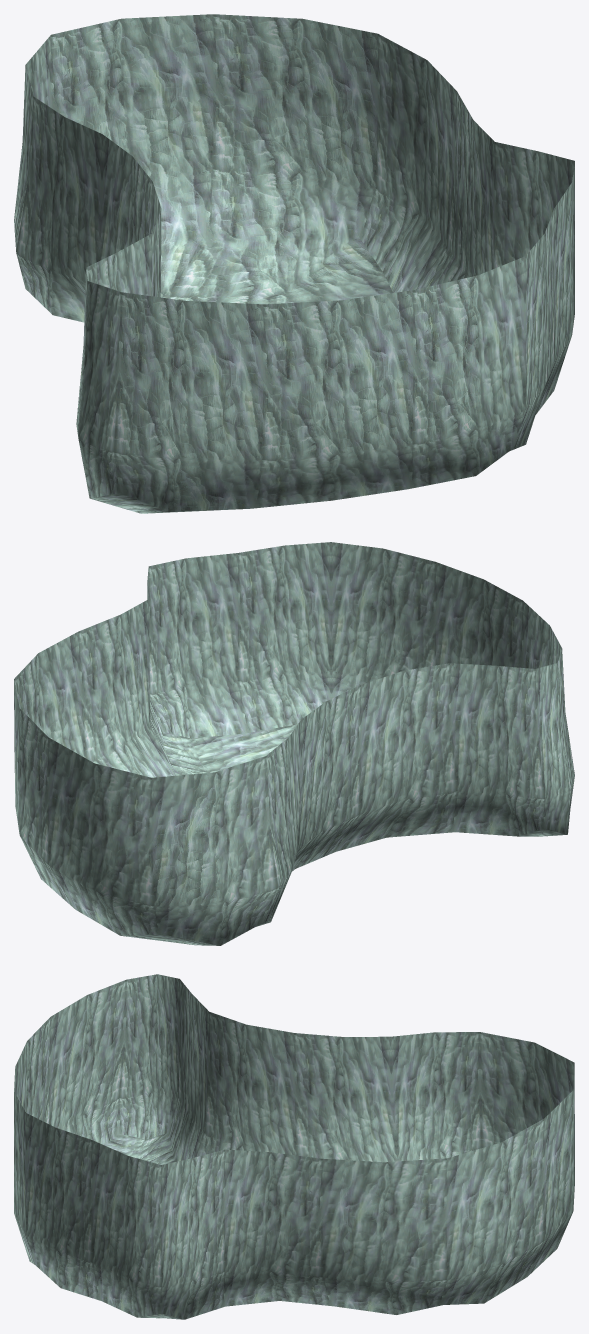
File: TROLLHOLE02_PS-SECRETCAVE02.fbx
3 views of the same model, one above another, from view 1: azimuth 30°, elevation 25°; view 2: azimuth 150°, elevation 25°; view 3: azimuth 270°, elevation 25° (orthographic). The views are drawn at different scales.
Parts seen in each view (by area): view 1: TROLLHOLE02_PS-SECRETCAVE02; view 2: TROLLHOLE02_PS-SECRETCAVE02; view 3: TROLLHOLE02_PS-SECRETCAVE02.
Part boxes in pixels (x1,y1,x2,y2): TROLLHOLE02_PS-SECRETCAVE02: (14, 14, 574, 513); TROLLHOLE02_PS-SECRETCAVE02: (14, 542, 574, 945); TROLLHOLE02_PS-SECRETCAVE02: (14, 974, 574, 1319).
Size of the model in its own units: 365122 by 160365 by 445139.
Materials: 1 (1 with a texture image).
